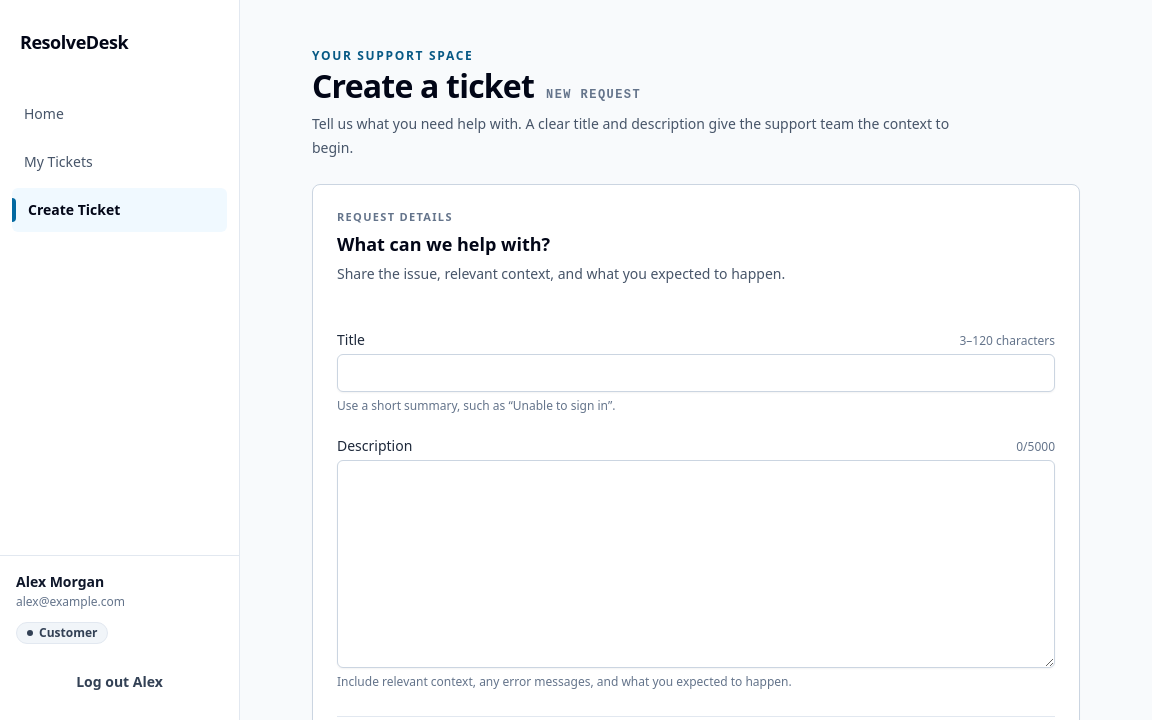
it: customer ticket creation › validates ticket fields before submission
expect the heading "Create a ticket" is shown: met, box [312,68,534,104]
Type "Hi" into the field labelled "Title" at (696, 372), box [337,354,1055,392]
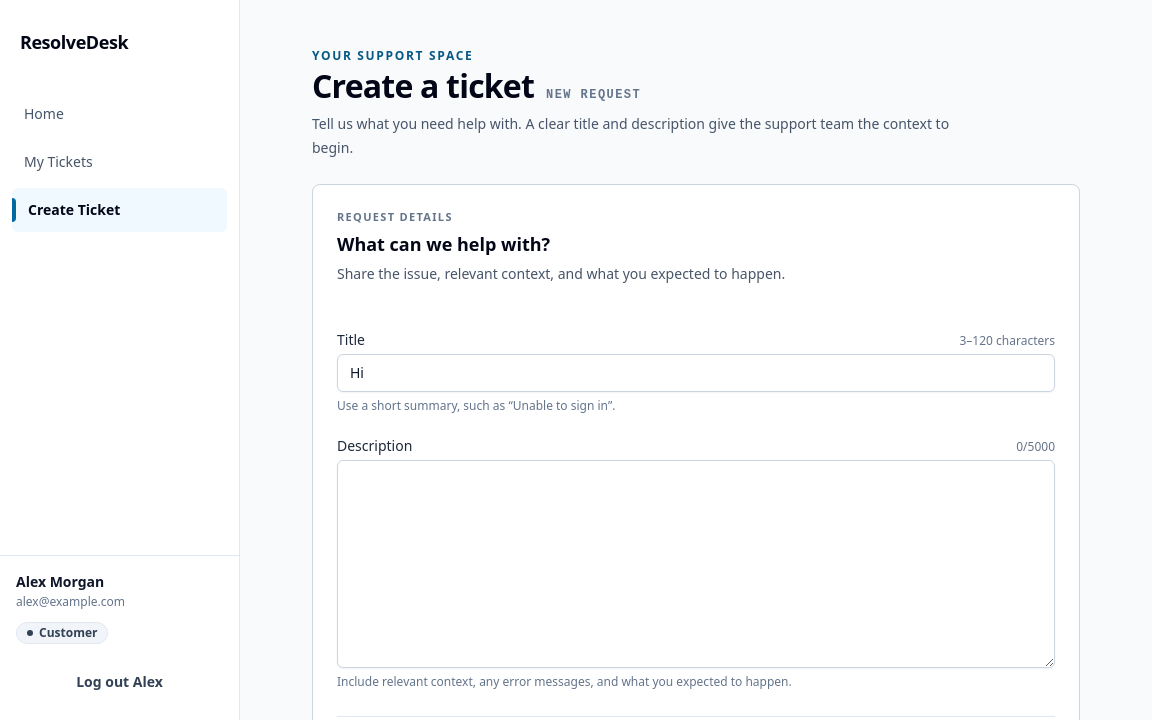
Type "Too short" into the text box labelled "Description" at (696, 564), box [337,460,1055,668]
(page scrolled)
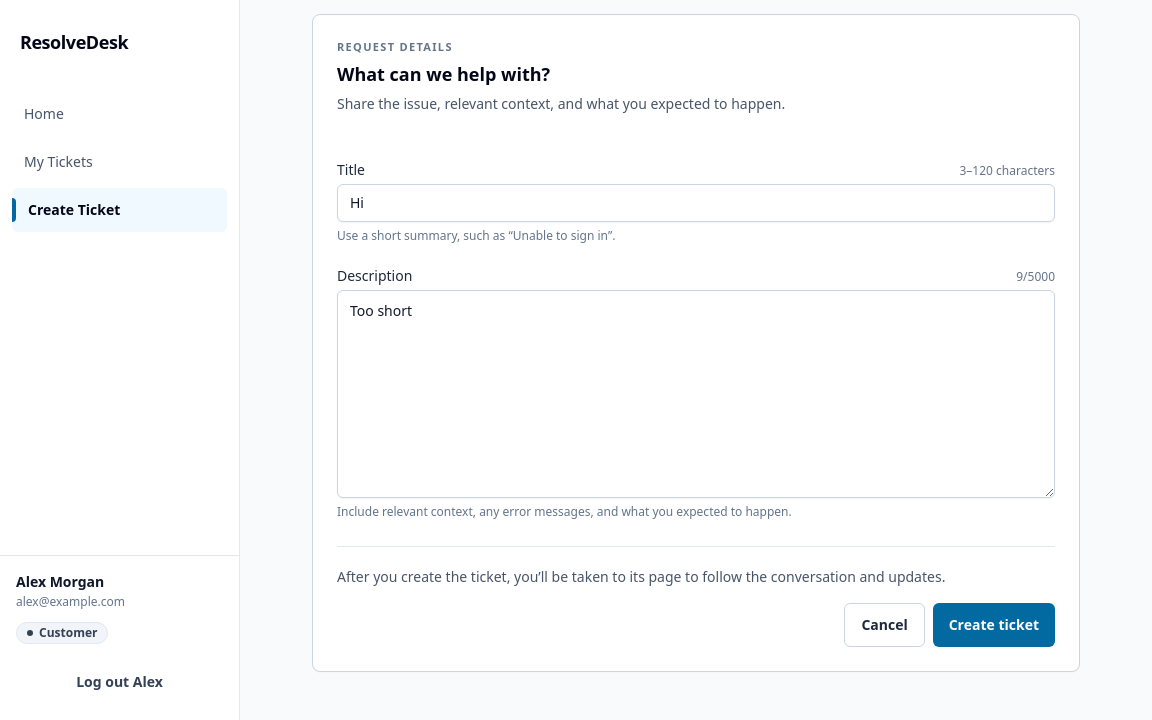
Click the button "Create ticket" at (994, 624), box [933,602,1055,646]
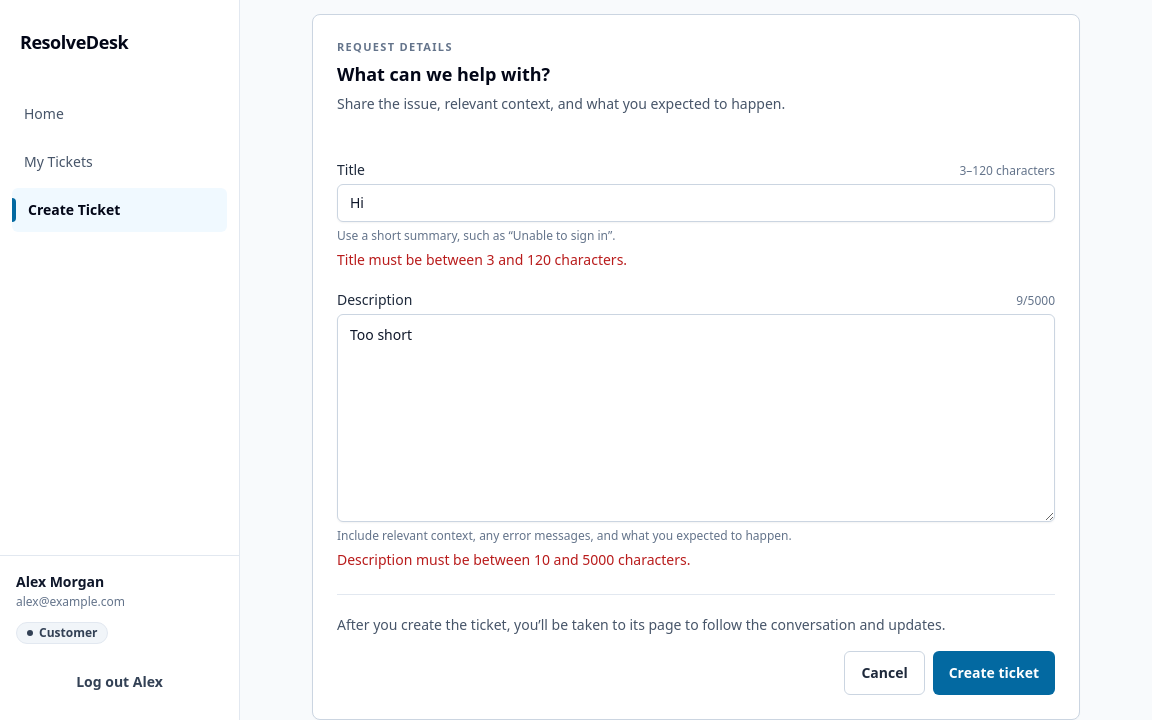
expect the text "Title must be between 3 and 120 characters." is shown: met, box [337,250,627,268]
expect the text "Description must be between 10 and 5000 characters." is shown: met, box [337,550,690,568]
